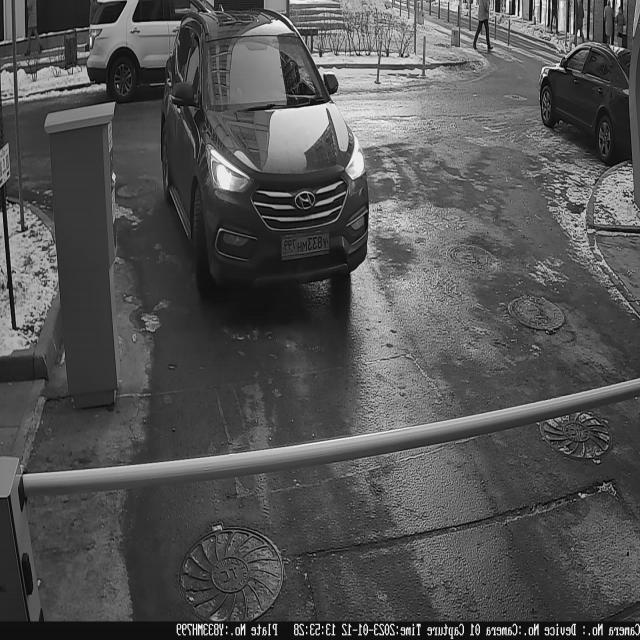car-plate-numbers: (281, 225, 335, 269)
